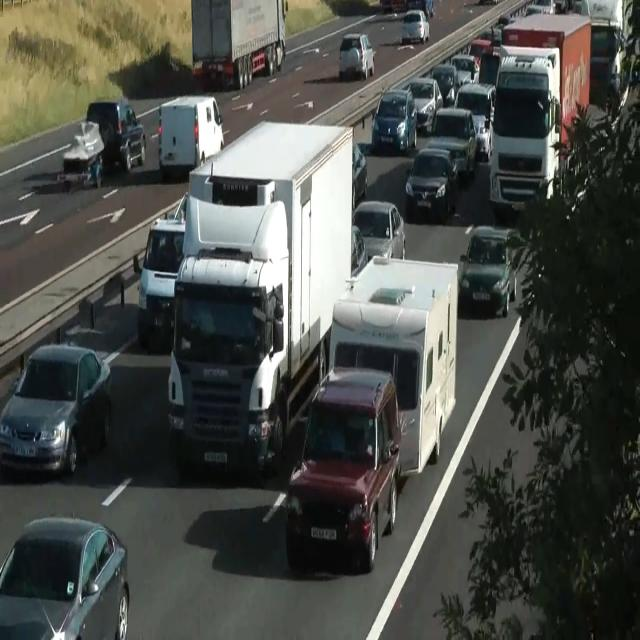bus: (0, 513, 130, 639), (0, 341, 112, 477), (457, 225, 517, 317), (405, 148, 457, 220), (352, 200, 406, 260), (401, 77, 443, 135), (338, 33, 376, 80), (430, 63, 460, 108), (352, 142, 368, 209), (400, 9, 430, 44), (450, 54, 478, 86), (351, 225, 367, 279), (467, 39, 491, 70), (525, 0, 556, 17), (174, 191, 188, 224), (379, 0, 406, 13), (553, 0, 572, 13), (426, 0, 434, 18), (477, 0, 498, 5)
jeep: (285, 367, 402, 572), (133, 214, 185, 350), (156, 93, 224, 175), (86, 98, 146, 172), (427, 105, 477, 178), (57, 119, 105, 189), (453, 81, 495, 159), (370, 89, 418, 154)
minibus: (166, 119, 354, 478), (325, 255, 459, 478), (488, 11, 591, 216), (190, 0, 288, 90)
